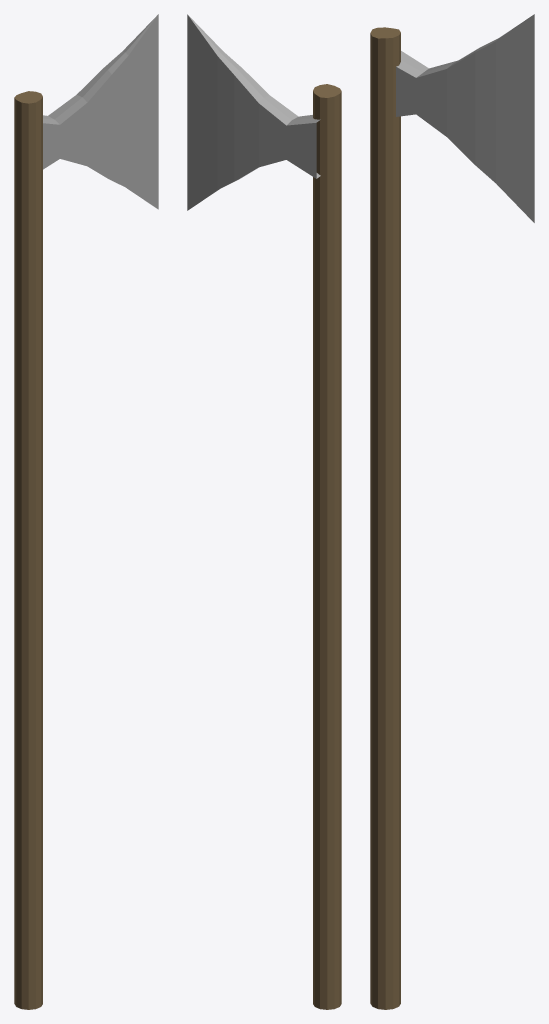
File: Tier04Axe.fbx
3 views of the same model, side by side, from view 1: azimuth 30°, elevation 25°; view 2: azimuth 150°, elevation 25°; view 3: azimuth 330°, elevation 25° (orthographic). The views are drawn at different scales.
Parts seen in each view (by area): view 1: Tier4Axe; view 2: Tier4Axe; view 3: Tier4Axe.
Part boxes in pixels (x1=…): Tier4Axe: x1=14, y1=14, x2=158, y2=1009; Tier4Axe: x1=187, y1=14, x2=341, y2=1009; Tier4Axe: x1=370, y1=14, x2=534, y2=1009.
Size of the model in its own units: 46.2 by 287 by 10.2.
